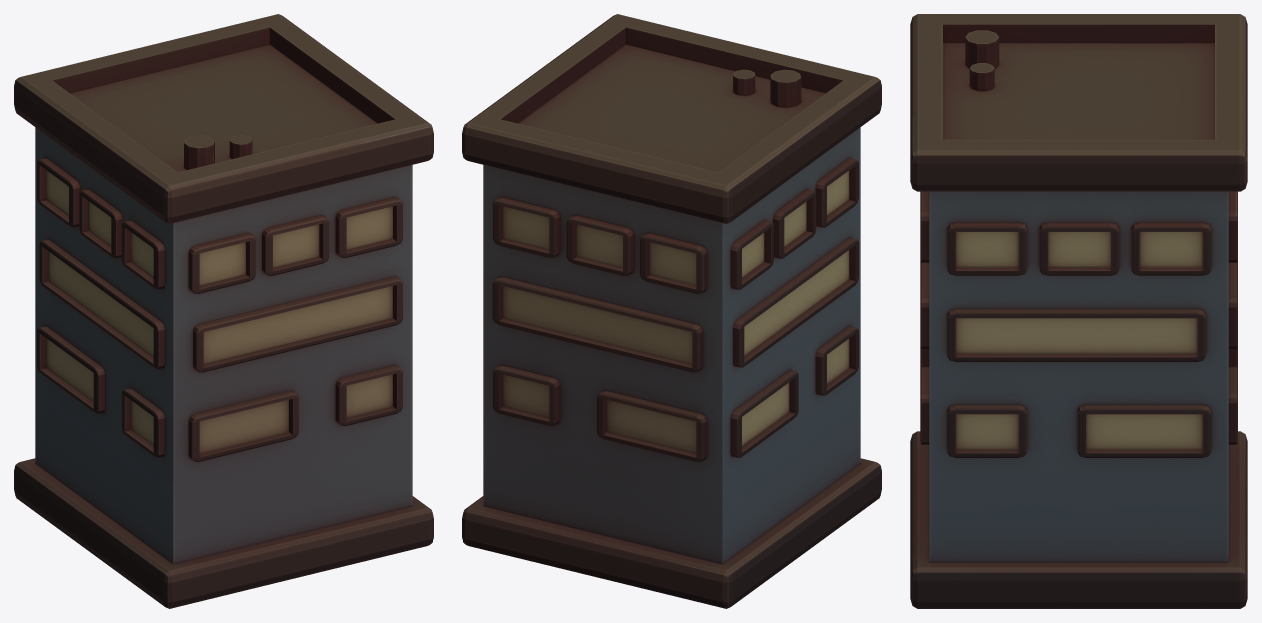
File: Flats.fbx
3 views of the same model, side by side, from view 1: azimuth 30°, elevation 25°; view 2: azimuth 150°, elevation 25°; view 3: azimuth 270°, elevation 25° (orthographic). The views are drawn at different scales.
Parts seen in each view (by area): view 1: Flats; view 2: Flats; view 3: Flats.
Part boxes in pixels (x1,y1,x2,y2): Flats: [14, 14, 433, 608]; Flats: [462, 14, 881, 608]; Flats: [910, 14, 1247, 608].
Size of the model in its own units: 112 by 171 by 112.
